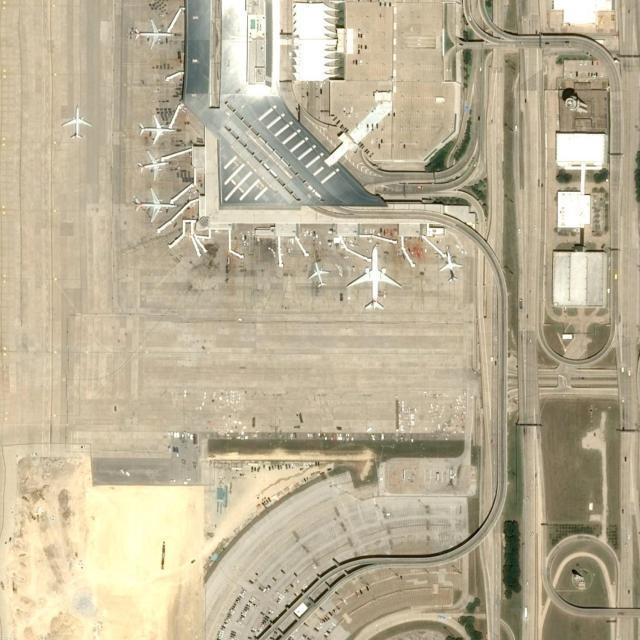Aircraft: (345, 243, 401, 310), (130, 186, 173, 220), (133, 18, 175, 48), (138, 111, 177, 142), (136, 152, 169, 179), (61, 107, 89, 138), (305, 260, 331, 290), (439, 252, 465, 281)
